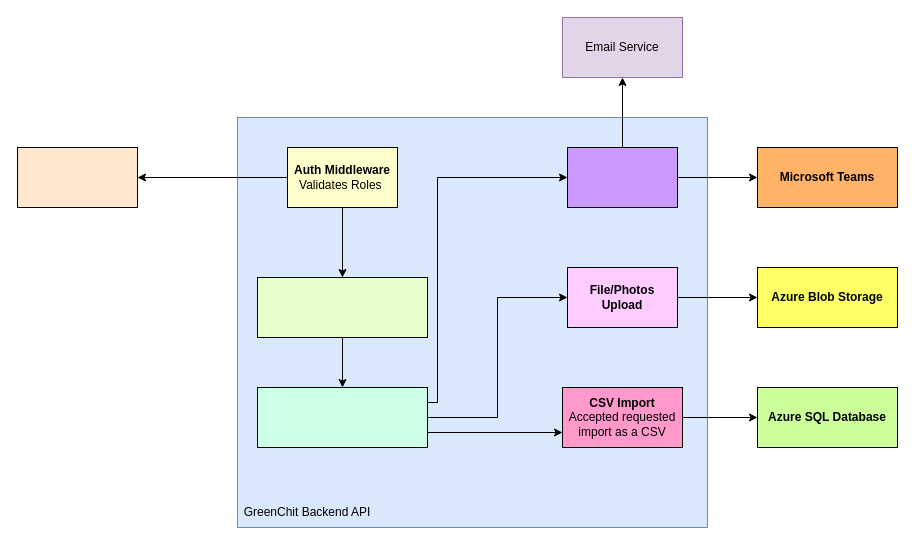
This 915x545 diagram has some shape labels left out. Each missing label, with the centre of its shape:
Microsoft Entra ID: the point at 77,177
Notification Teams Webhook Emails: the point at 622,177
Request Controller Submit, View, Approval, Decline Routes: the point at 342,307
Request Service Business Logic, approval Rules: the point at 342,417
